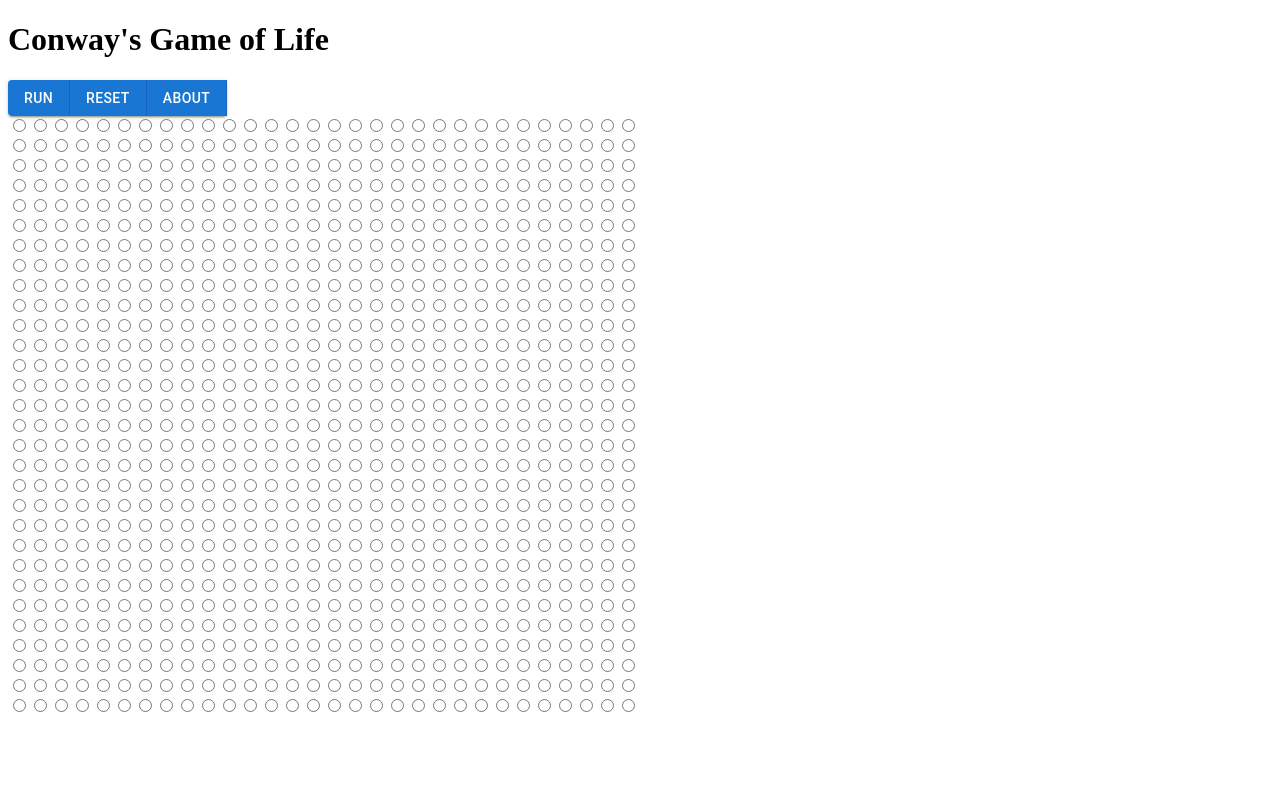
Scenario: User can navigate the app › is expected to render an about modal when about button is clicked
This screenshot has width=1280, height=800.
Step 1. Click the button with test id "about-btn" → point(188, 99), box [147, 80, 228, 117]
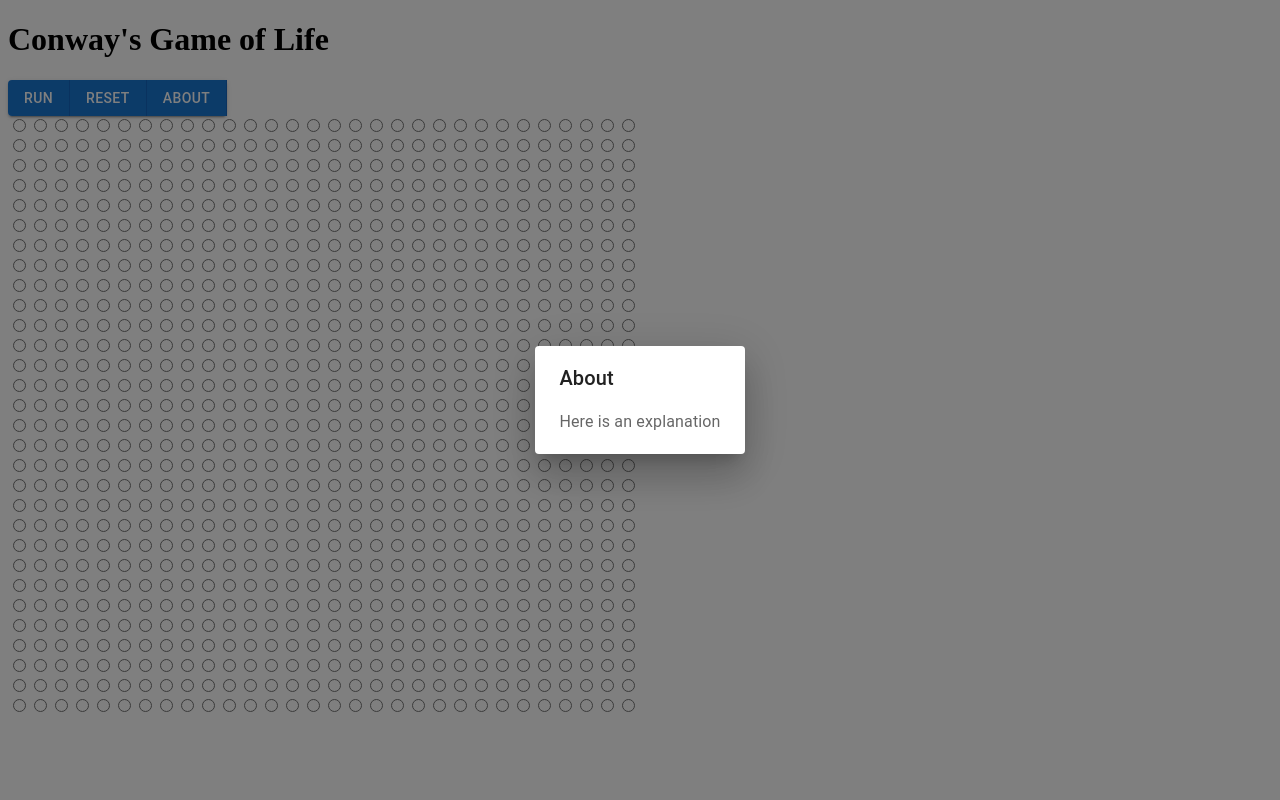
Check: the text with test id "about" reads "Here is an explanation", box [559, 410, 720, 434]
